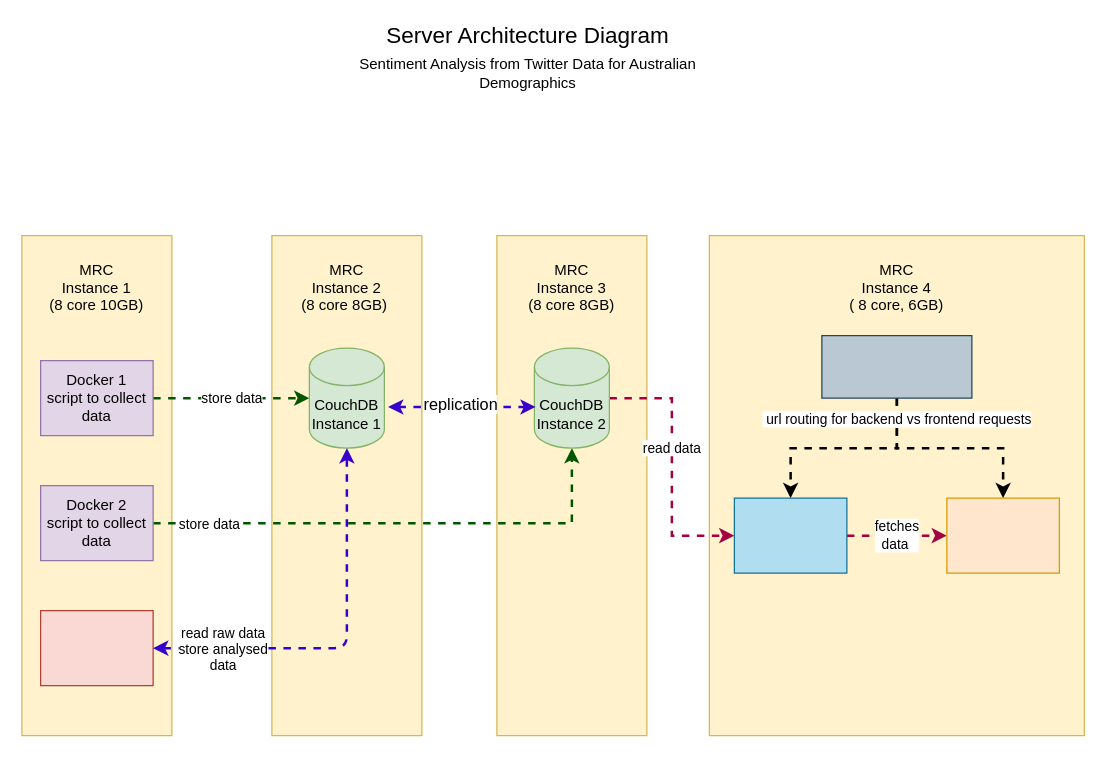
Some shapes in this 1106 by 758 pixel diagram are drawn without their labels. The centre of each missing label's shape, as x and y in pixels:
"Docker 1 host backend REST APIs (Flask)" goes at (790,535).
"Docker 2 host UI (React)" goes at (1002,535).
"Docker 3 Script to Analyse Data" goes at (96,647).
"NGINX Reverse Proxy" goes at (896,366).
